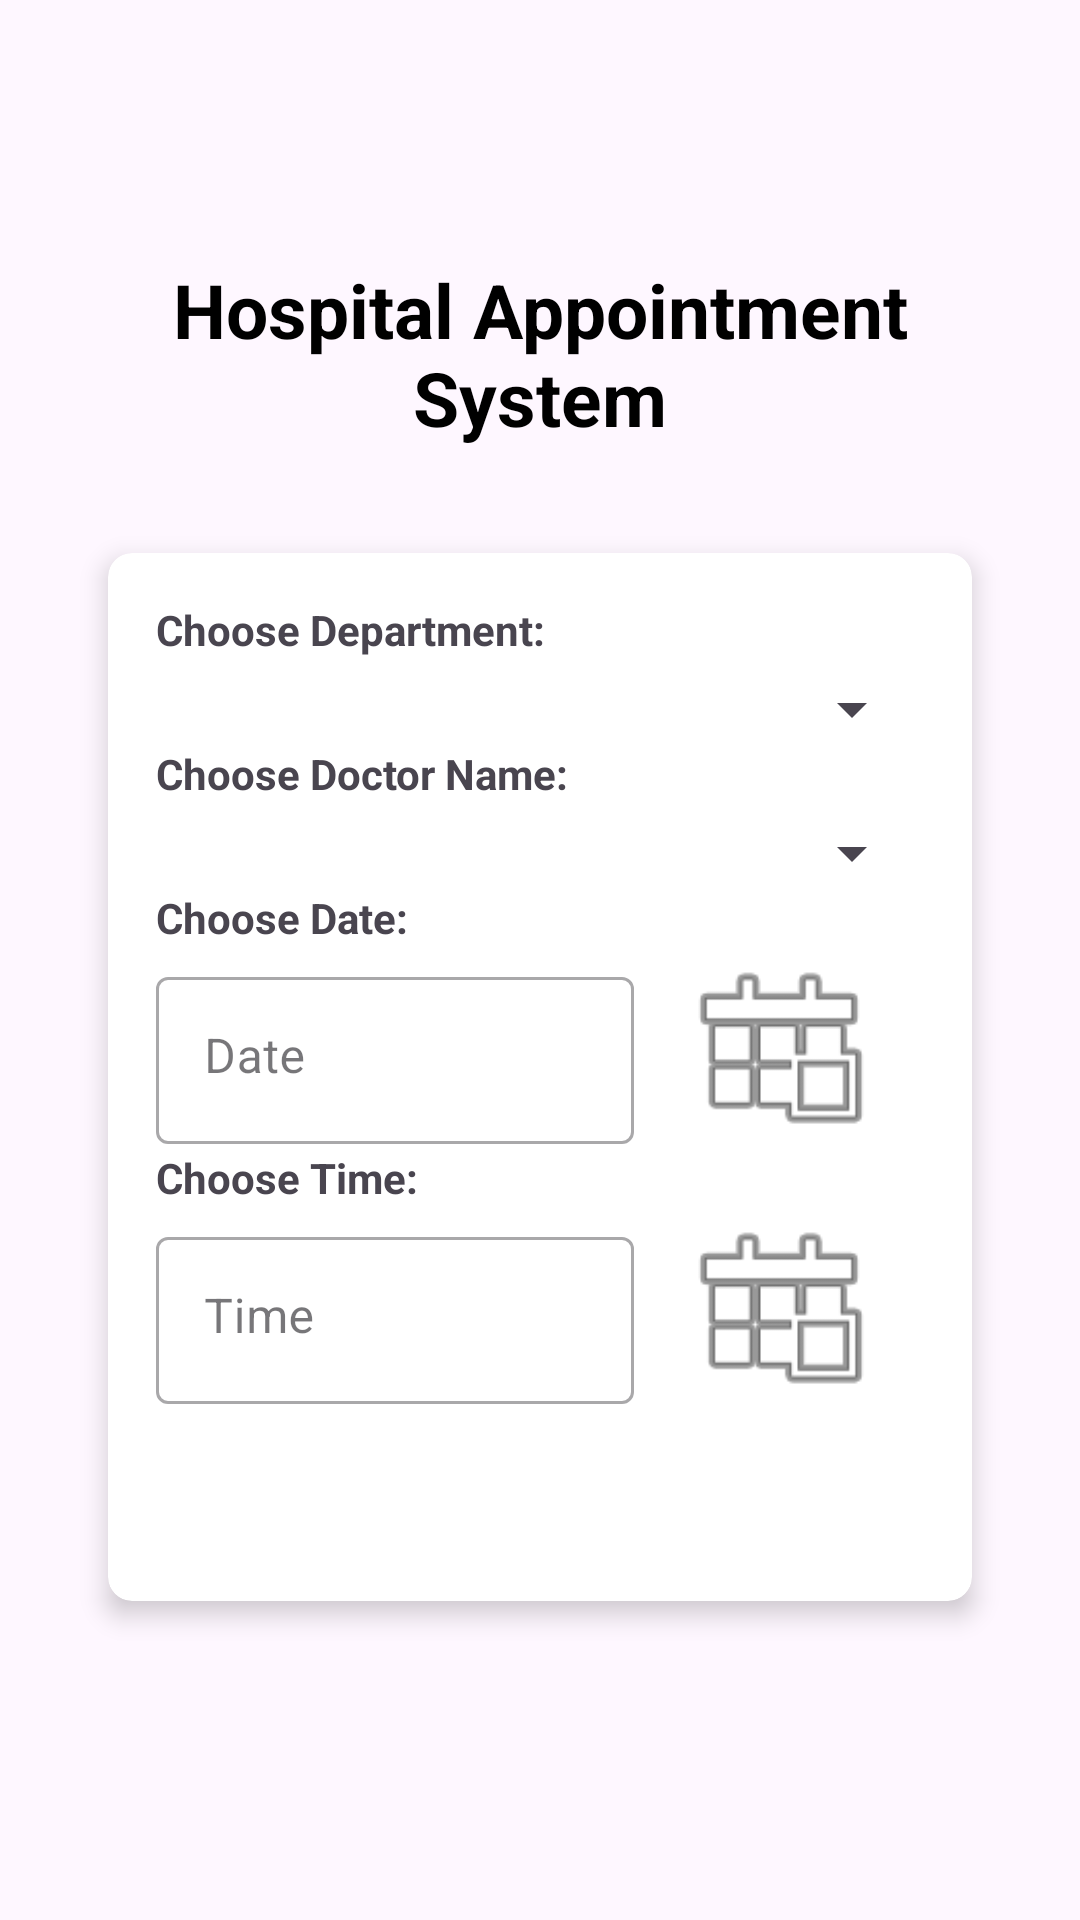

Icon bounding boxes for this 1080w x 1920h phone screenshot, format {"x1": x1, "y1": y1, "x2": x2, "y2": y2}:
today: {"x1": 700, "y1": 973, "x2": 862, "y2": 1124}, {"x1": 700, "y1": 1233, "x2": 862, "y2": 1384}
